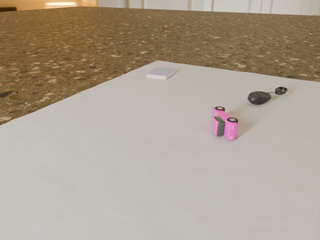book: (147, 67, 175, 80)
mouse: (248, 91, 271, 105)
toy_car: (211, 107, 238, 140)
